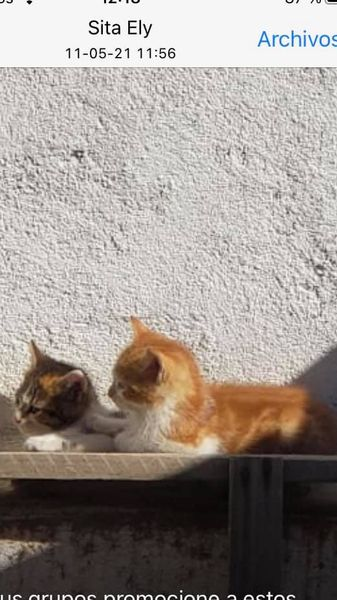cat: (100, 311, 331, 458), (15, 333, 96, 460)
